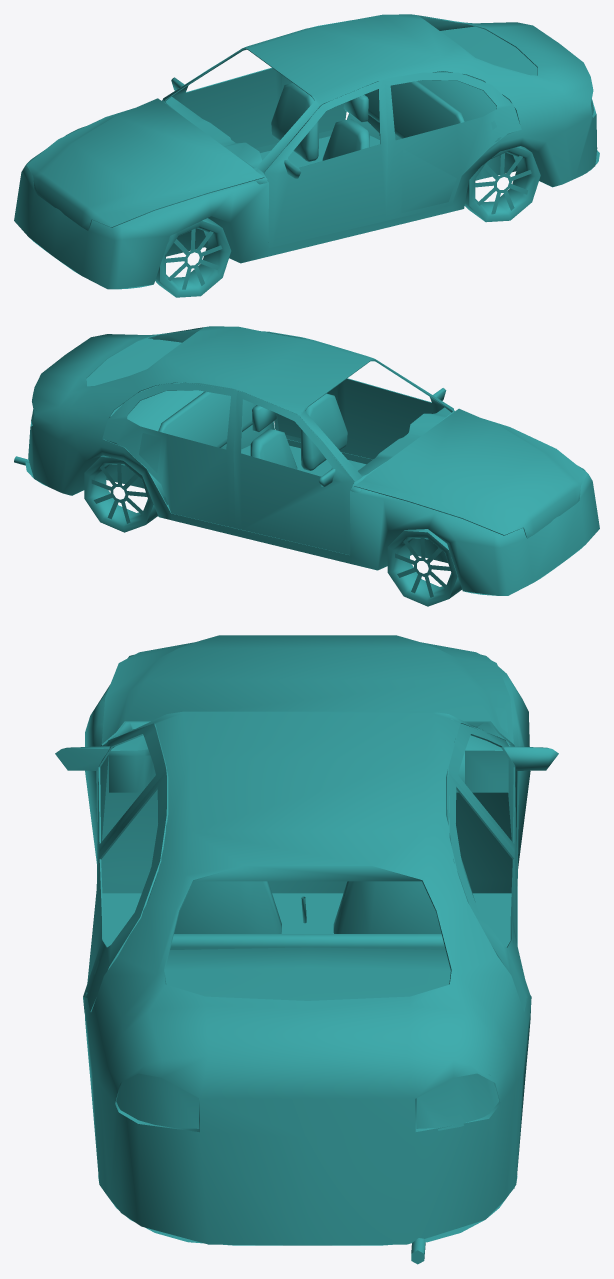
File: Car3_Collision.fbx
3 renders of one model, top to bottom at view 1: azimuth 30°, elevation 25°; view 2: azimuth 150°, elevation 25°; view 3: azimuth 270°, elevation 25°, orthographic. The views are drawn at different scales.
Visible parts, largest first — view 1: Car3_Collision; view 2: Car3_Collision; view 3: Car3_Collision.
Boxes of the visible parts, <box> form: Car3_Collision: <box>14,14,599,297</box>; Car3_Collision: <box>14,326,599,606</box>; Car3_Collision: <box>55,635,558,1264</box>.
Bounding box in the file's own units: 5.2 × 1.51 × 2.19.
